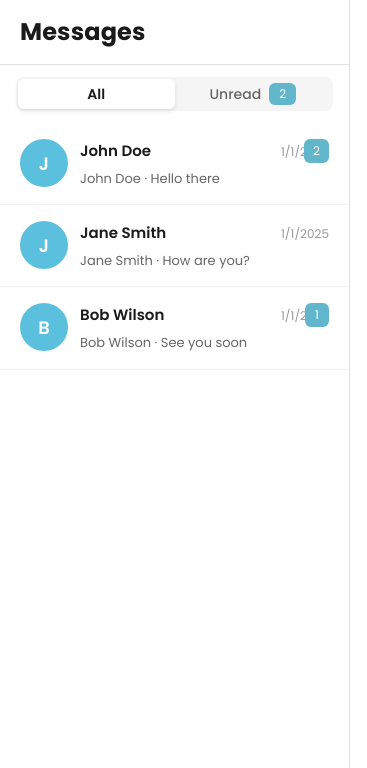
it: ConversationsSidebar › switches back to All filter
// Switch to Unread
Click the button "Unread 2": [253, 94] box [174,79,331,109]
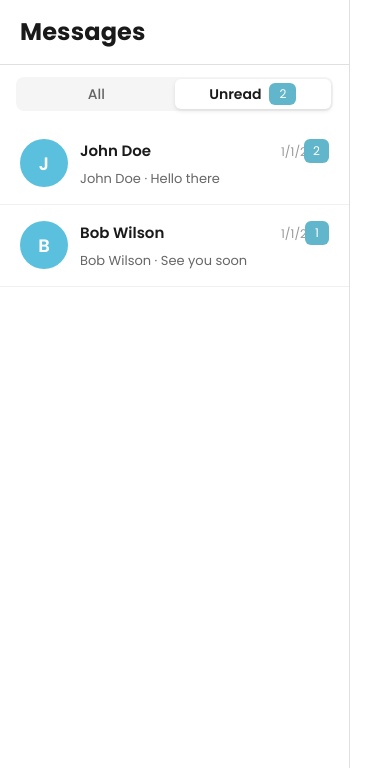
// Switch back to All
Click the button "All": [96, 94] box [18,79,174,109]
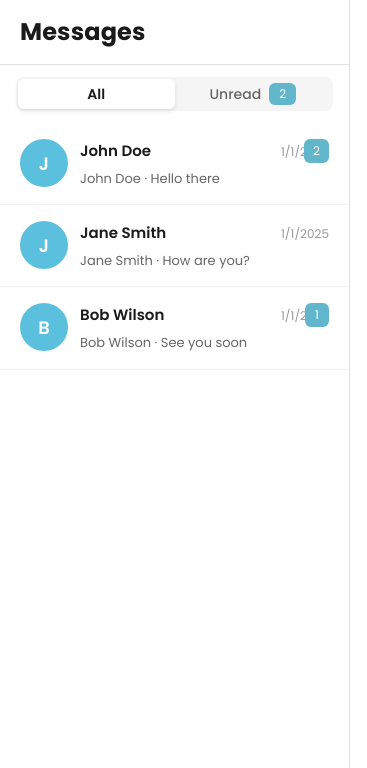
Check: the heading "John Doe" is shown, box [80,139,151,162]
Check: the heading "Jane Smith" is shown, box [80,221,166,244]
